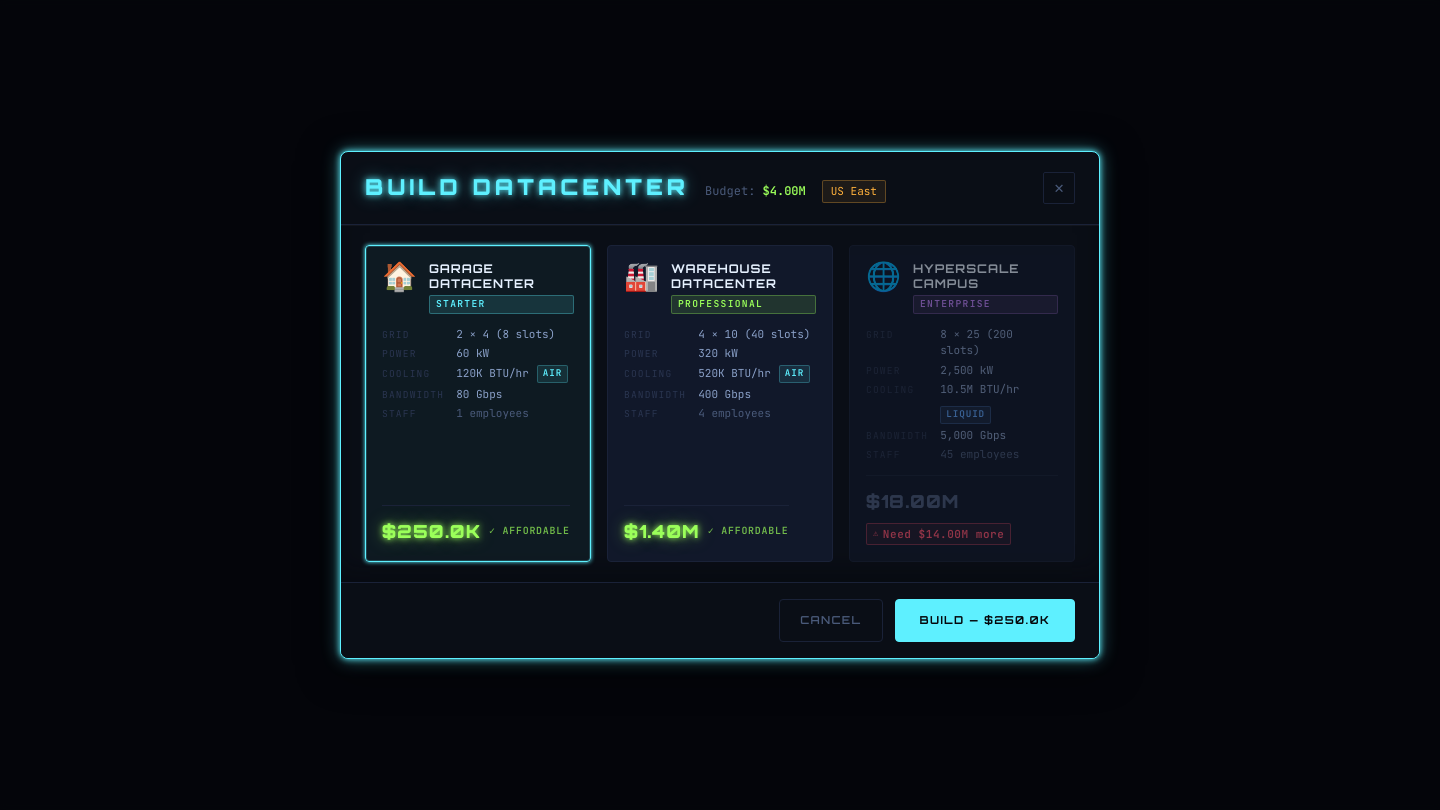
Test: NewDatacenterModal › selecting a card updates the BUILD button price label
The width and height of the screenshot is (1440, 810).
# Click Warehouse card
Click the button "Warehouse Datacenter" at (720, 404), box [607, 246, 833, 562]
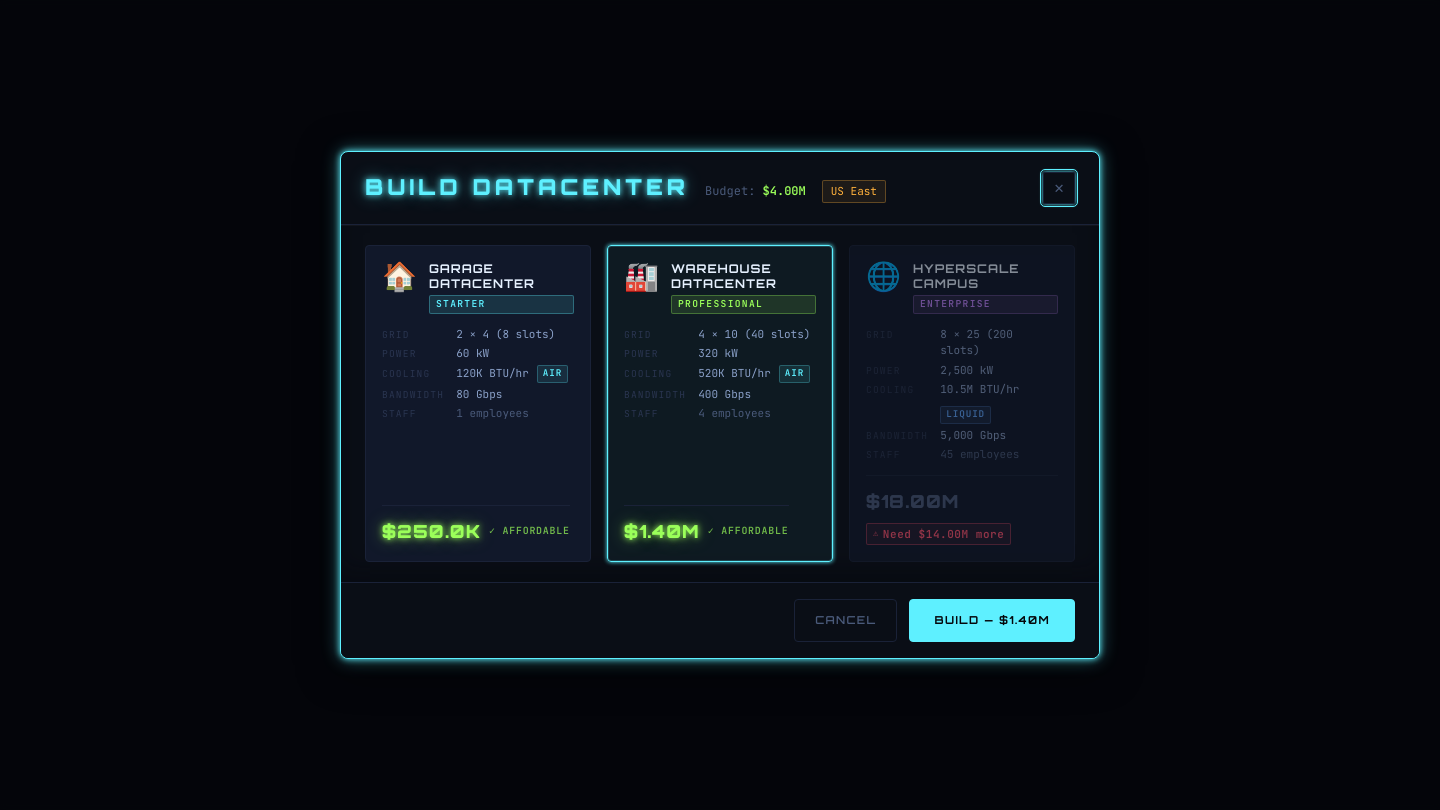
Check: the button "BUILD — $1.40M" is shown, box [910, 599, 1075, 642]
